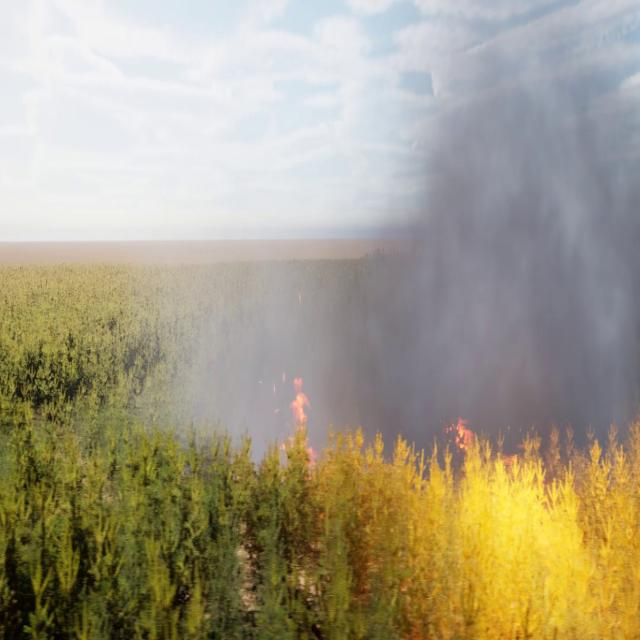fire: (372, 393, 640, 639), (275, 372, 312, 460)
smoke: (149, 14, 640, 425)
